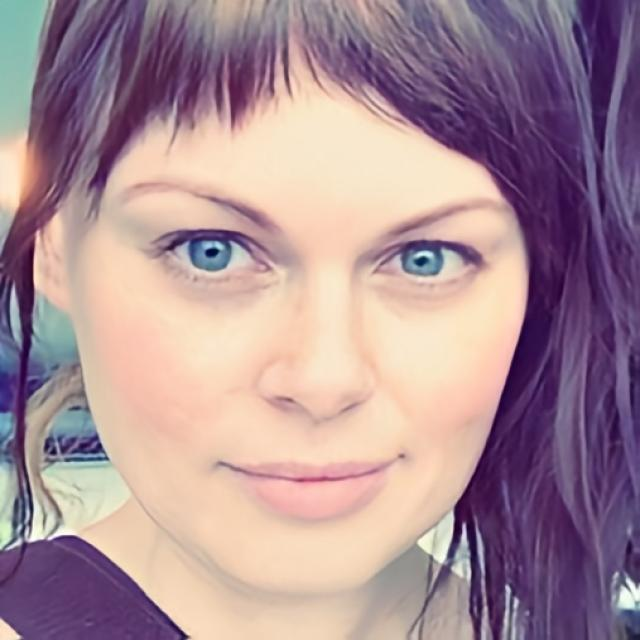content: (84, 66, 524, 600)
